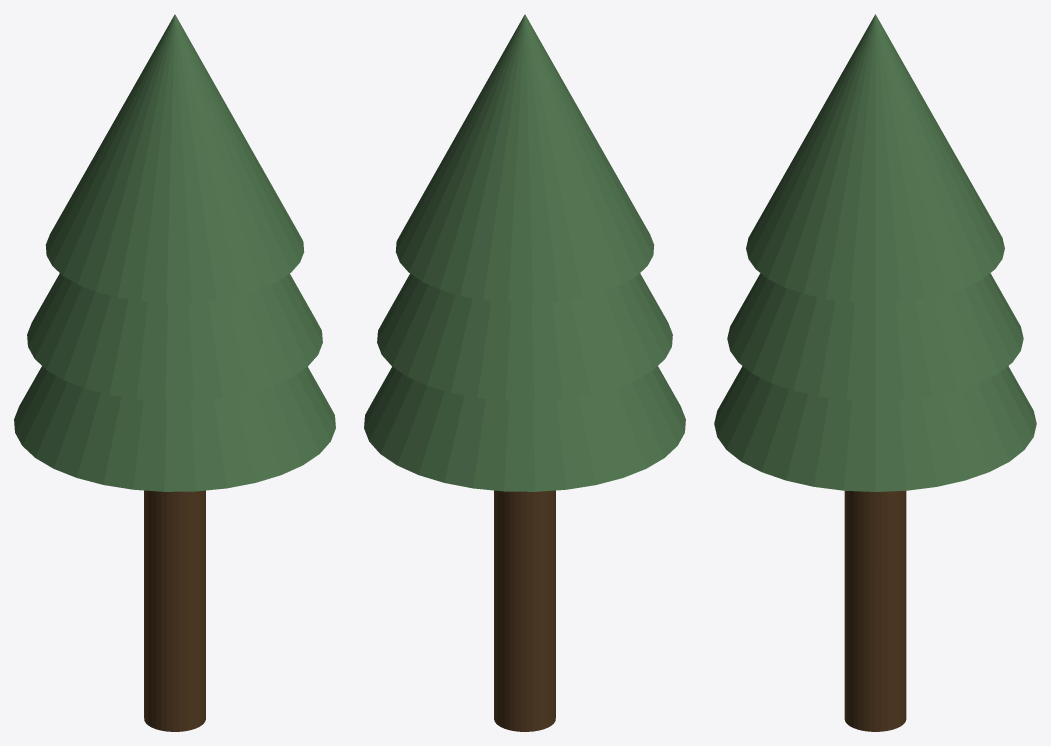
Rendered from tree.fbx.
3 renders of one model, left to right at view 1: azimuth 30°, elevation 25°; view 2: azimuth 150°, elevation 25°; view 3: azimuth 270°, elevation 25°, orthographic.
Parts seen in each view (by area): view 1: Cone, Cone.002, Cone.001, Cylinder; view 2: Cone, Cone.002, Cone.001, Cylinder; view 3: Cone, Cone.002, Cone.001, Cylinder.
Boxes of the visible parts, x1=… form: Cone: x1=45, y1=14, x2=304, y2=302; Cone.002: x1=14, y1=366, x2=335, y2=491; Cone.001: x1=27, y1=273, x2=322, y2=401; Cylinder: x1=144, y1=490, x2=205, y2=731; Cone: x1=395, y1=14, x2=654, y2=302; Cone.002: x1=364, y1=366, x2=685, y2=491; Cone.001: x1=377, y1=273, x2=672, y2=401; Cylinder: x1=494, y1=490, x2=555, y2=731; Cone: x1=746, y1=14, x2=1004, y2=302; Cone.002: x1=714, y1=366, x2=1036, y2=491; Cone.001: x1=727, y1=273, x2=1023, y2=401; Cylinder: x1=844, y1=490, x2=906, y2=731.
Bounding box in the file's own units: 200 × 482 × 200.
